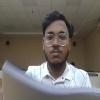notebook: (0, 58, 99, 99)
